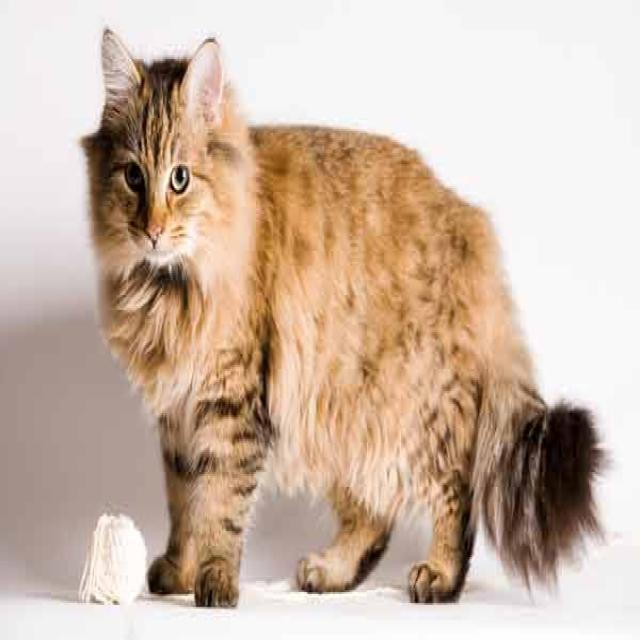Maine_Coon: (87, 19, 242, 284)
